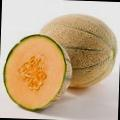Melon Ripe: (38, 13, 118, 90), (2, 33, 74, 113)
